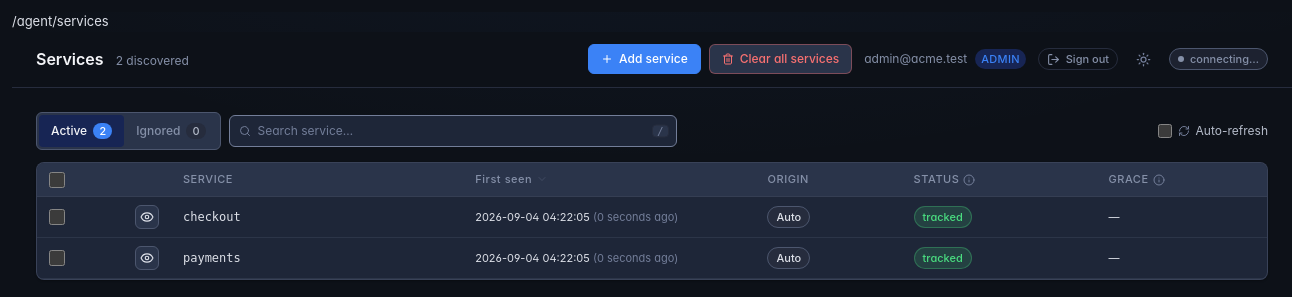
ServicesPage Active/Ignored scope › filters to the ignored service when the Ignored scope is selected
Step 1. Click the tab "Ignored 0" → [171, 130], box [124, 114, 218, 146]
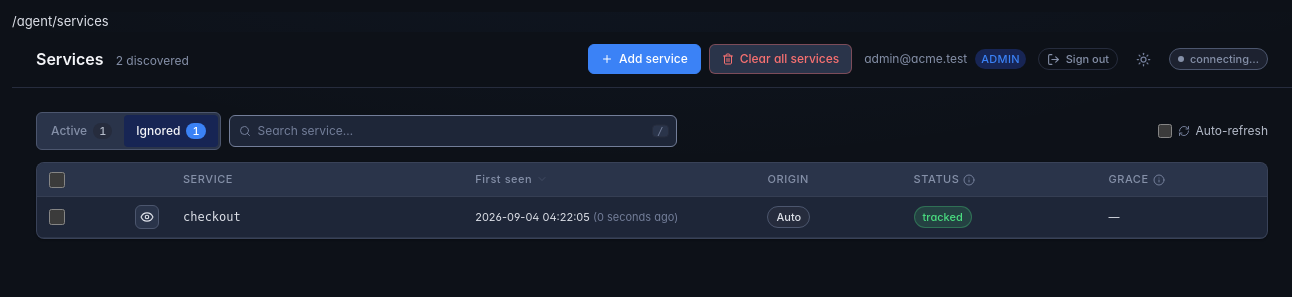
Expected: the text "checkout" is shown, [171, 196, 463, 237]
Now the text "payments" is gone
